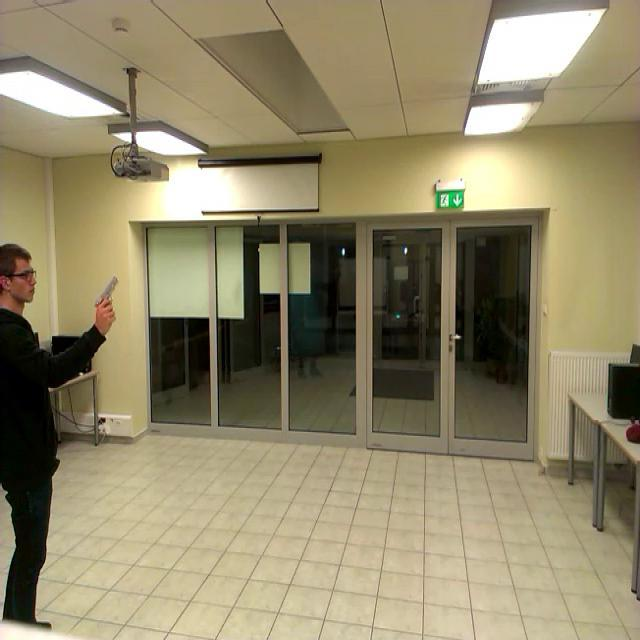Gun: (93, 275, 118, 314)
